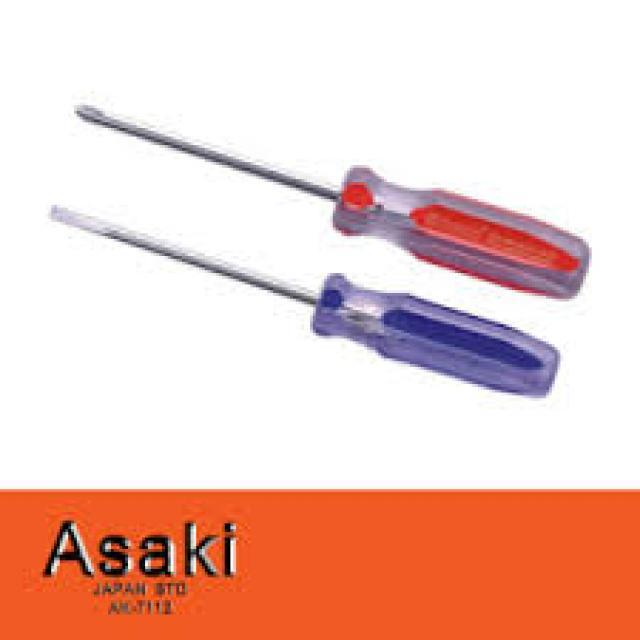screwdriver: (71, 101, 592, 309), (43, 203, 569, 400)
